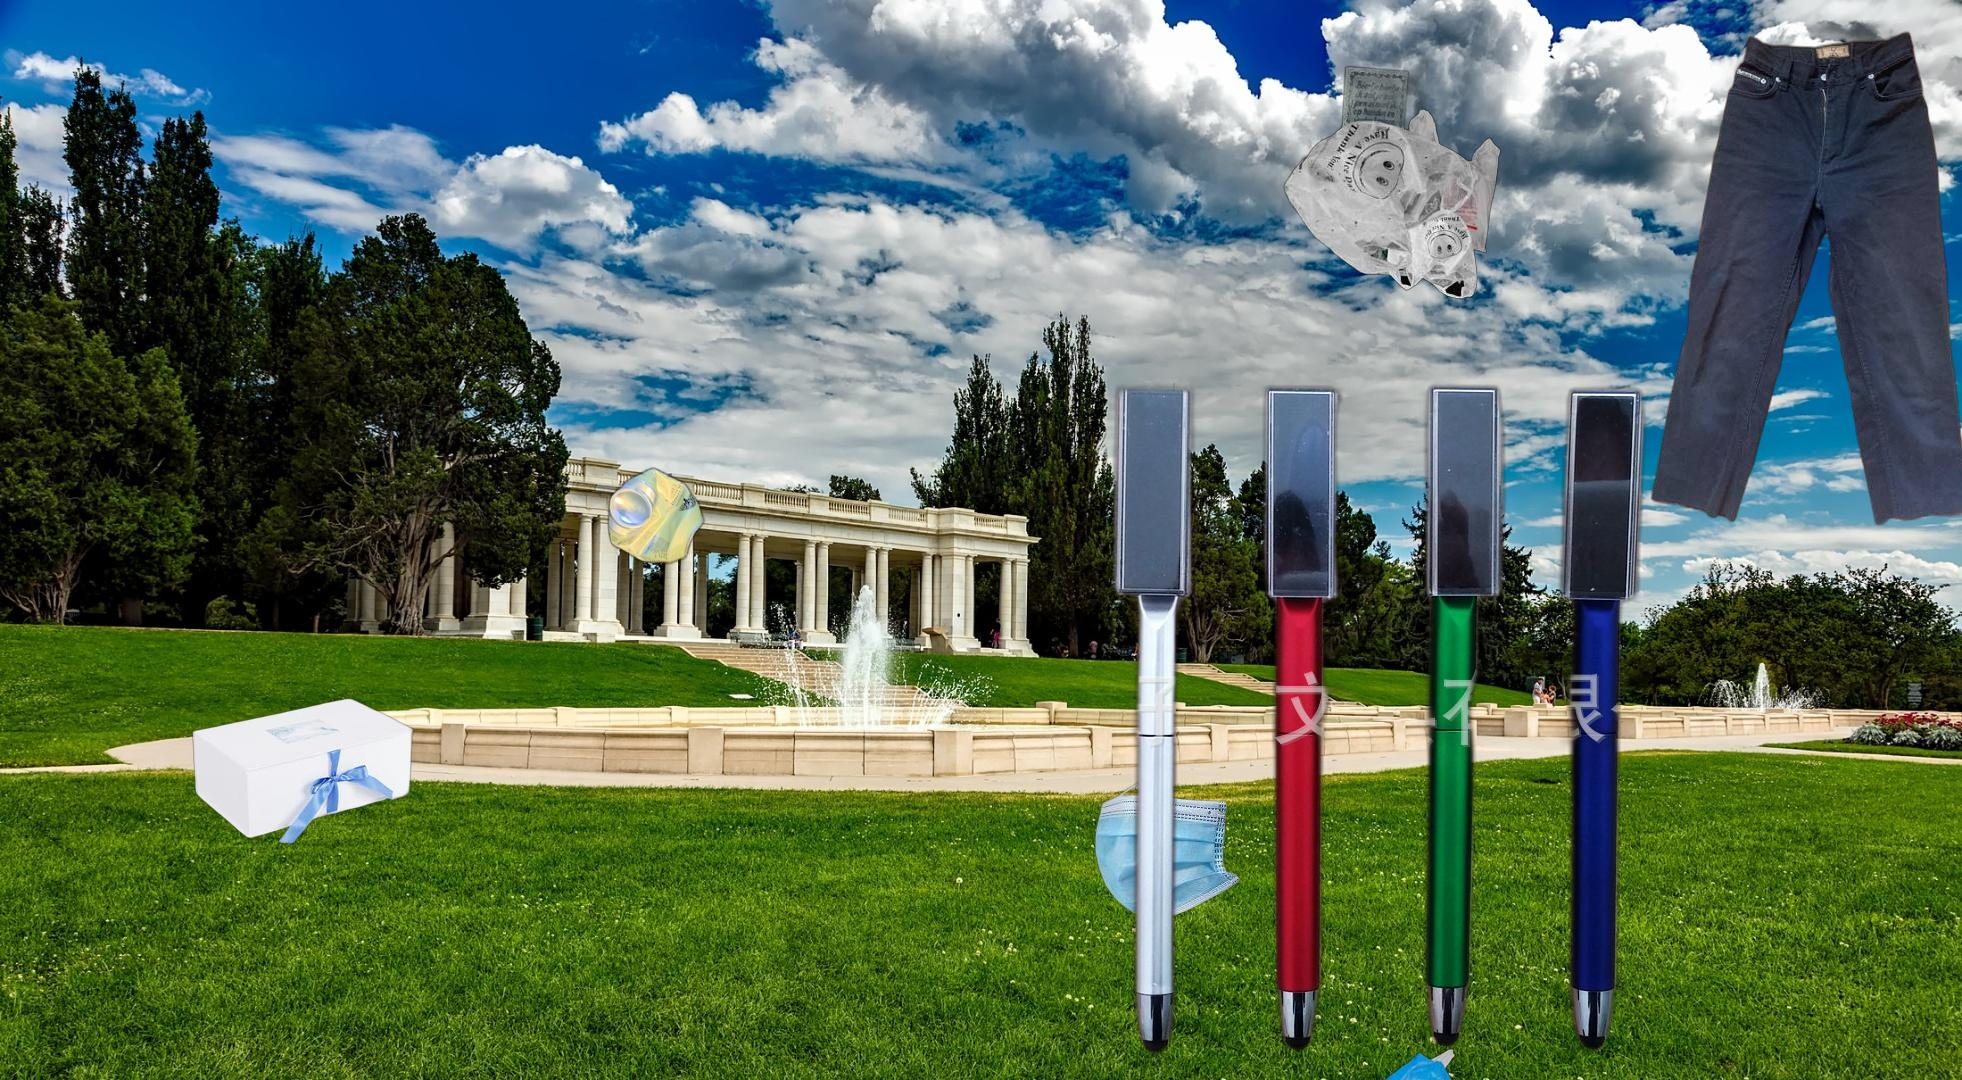clothes: (1648, 19, 1962, 529)
metal-cans: (603, 463, 708, 571)
penholder: (1105, 376, 1654, 1061)
plastic-bag: (1281, 47, 1502, 301), (1315, 1045, 1533, 1080)
trash: (1093, 775, 1243, 920)
trashbox-cardboard: (190, 696, 417, 847)
